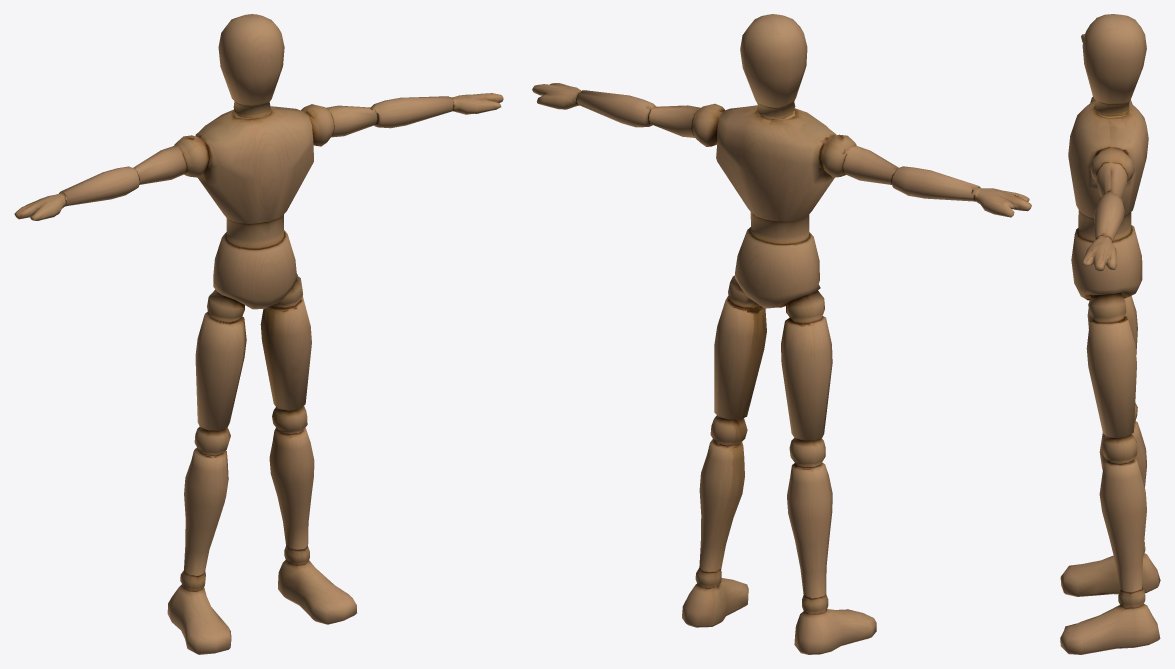
Rendered from mannequin_male.glb.
3 views of the same model, side by side, from view 1: azimuth 30°, elevation 25°; view 2: azimuth 150°, elevation 25°; view 3: azimuth 270°, elevation 25° (orthographic). The views are drawn at different scales.
Parts seen in each view (by area): view 1: Mannequin; view 2: Mannequin; view 3: Mannequin.
Part boxes in pixels (x1=…): Mannequin: x1=14, y1=14, x2=503, y2=654; Mannequin: x1=532, y1=14, x2=1031, y2=654; Mannequin: x1=1060, y1=14, x2=1160, y2=654.
Bounding box in the file's own units: 140 × 165 × 25.05.
1 material, 1 textured.
